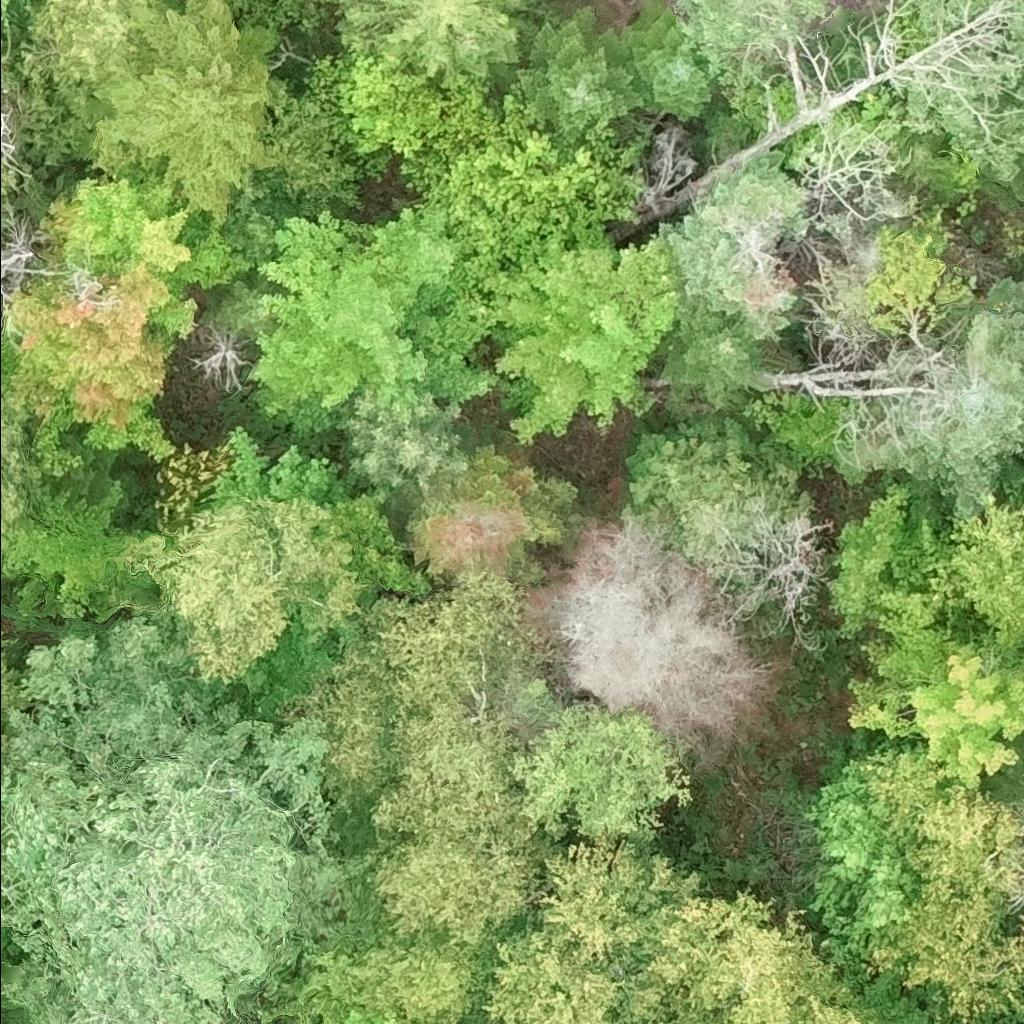crown: (0, 605, 378, 1023), (525, 511, 793, 775), (245, 203, 501, 434), (275, 569, 527, 801), (124, 493, 373, 693), (846, 749, 1023, 1023), (415, 89, 643, 301), (90, 0, 291, 236), (0, 257, 198, 496), (484, 233, 680, 445), (769, 290, 977, 466), (360, 702, 574, 863), (867, 310, 1023, 519), (624, 885, 838, 1023), (506, 697, 694, 847), (654, 153, 801, 336), (360, 825, 545, 951), (65, 171, 256, 293), (0, 477, 158, 622), (493, 2, 644, 153), (537, 833, 706, 966), (800, 746, 914, 936), (704, 506, 837, 652), (333, 382, 471, 513), (908, 639, 1023, 790), (483, 915, 636, 1023), (674, 0, 828, 106), (16, 0, 137, 129), (338, 924, 492, 1023), (0, 197, 106, 333), (338, 38, 456, 159), (324, 0, 523, 69), (317, 482, 436, 597), (945, 493, 1023, 667), (616, 0, 719, 122), (210, 424, 365, 505), (655, 293, 759, 407), (0, 396, 47, 533), (990, 71, 1023, 209), (190, 319, 251, 391), (789, 983, 884, 1023), (0, 109, 37, 180), (0, 620, 22, 714), (319, 1005, 403, 1023), (971, 1019, 981, 1023), (0, 53, 2, 65), (0, 36, 2, 48), (998, 1023, 999, 1023)
